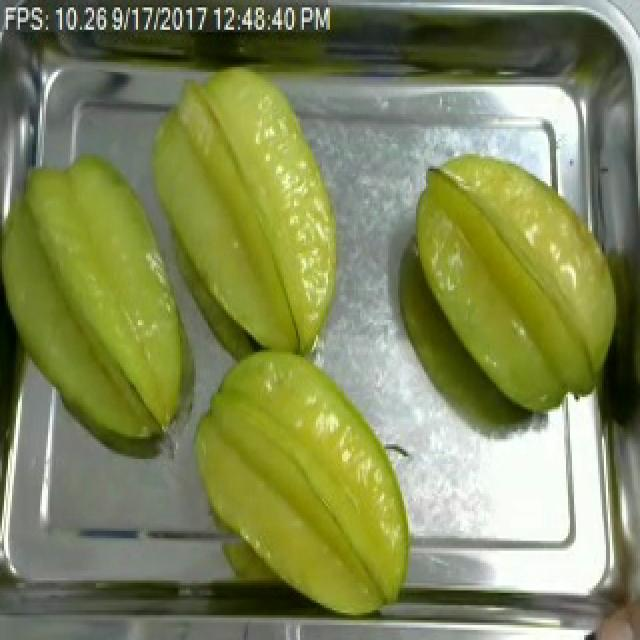fruit: (180, 338, 420, 628), (400, 137, 632, 429), (134, 57, 350, 370), (0, 139, 202, 466)
